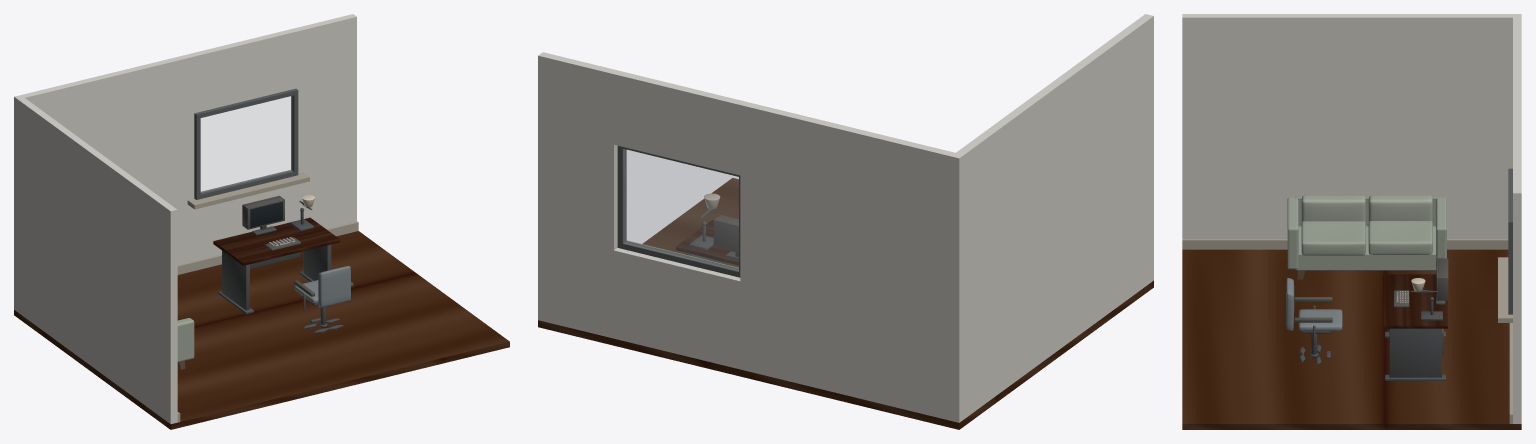
The model's file is vq1c-hero-corner-pbr.glb.
3 views of the same model, side by side, from view 1: azimuth 30°, elevation 25°; view 2: azimuth 150°, elevation 25°; view 3: azimuth 270°, elevation 25° (orthographic). The views are drawn at different scales.
Parts seen in each view (by area): view 1: SIDE_WALL, FLOOR, BACK_WALL_LEFT, BACK_WALL_RIGHT, GLASS_PLACEHOLDER, BACK_WALL_TOP, BACK_WALL_BOTTOM, DESK_TOP, DESK_FRAME_LEFT, CHAIR_BACK_CUSHION, WINDOW_SILL, DESK_FRAME_RIGHT (+7 smaller); view 2: BACK_WALL_LEFT, SIDE_WALL, BACK_WALL_RIGHT, BACK_WALL_BOTTOM, GLASS_PLACEHOLDER, BACK_WALL_TOP, FLOOR, FRAME_BOTTOM, FRAME_RIGHT, DESK_TOP, MONITOR_BACK_SHELL; view 3: SIDE_WALL, FLOOR, DESK_FRAME_RIGHT, DESK_TOP, SOFA_BASE, BACK_WALL_RIGHT, SOFA_SEAT_CUSHION_LEFT, SOFA_SEAT_CUSHION_RIGHT, BASEBOARD_SIDE, SOFA_BACK_CUSHION_LEFT, SOFA_BACK_CUSHION_RIGHT, SOFA_ARM_LEFT (+10 smaller).
Boxes of the visible parts, x1,y1,x2,y2 form: SIDE_WALL: (14,96,177,423); FLOOR: (14,231,509,429); BACK_WALL_LEFT: (14,53,194,311); BACK_WALL_RIGHT: (292,14,356,228); GLASS_PLACEHOLDER: (201,96,291,192); BACK_WALL_TOP: (191,29,295,113); BACK_WALL_BOTTOM: (194,185,295,260); DESK_TOP: (213,217,339,265); DESK_FRAME_LEFT: (222,251,249,310); CHAIR_BACK_CUSHION: (318,266,350,307); WINDOW_SILL: (187,172,309,209); DESK_FRAME_RIGHT: (303,244,331,280); BACK_WALL_LEFT: (740,101,964,422); SIDE_WALL: (951,14,1153,422); BACK_WALL_RIGHT: (538,52,618,338); BACK_WALL_BOTTOM: (614,248,740,369); GLASS_PLACEHOLDER: (623,149,738,270); BACK_WALL_TOP: (614,70,744,175); FLOOR: (538,178,1153,429); FRAME_BOTTOM: (622,241,738,277); FRAME_RIGHT: (617,145,626,248); DESK_TOP: (676,220,738,265); MONITOR_BACK_SHELL: (713,215,738,251); SIDE_WALL: (1182,14,1521,238); FLOOR: (1182,249,1521,429); DESK_FRAME_RIGHT: (1389,328,1441,377); DESK_TOP: (1383,274,1447,328); SOFA_BASE: (1295,226,1436,270); BACK_WALL_RIGHT: (1513,161,1521,423); SOFA_SEAT_CUSHION_LEFT: (1301,221,1365,255); SOFA_SEAT_CUSHION_RIGHT: (1368,221,1432,254); BASEBOARD_SIDE: (1182,239,1508,249); SOFA_BACK_CUSHION_LEFT: (1301,195,1365,223); SOFA_BACK_CUSHION_RIGHT: (1368,195,1432,223); SOFA_ARM_LEFT: (1287,197,1298,269).
Bounding box in the file's own units: 5 × 3.08 × 4.
16 materials, 2 textured.
